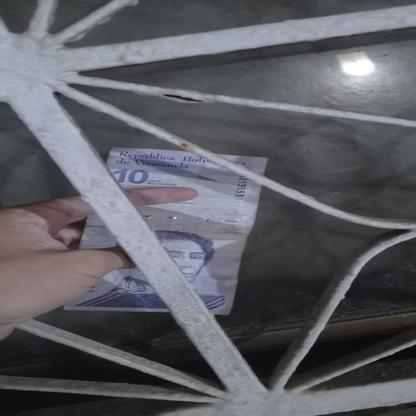ten-front-vef: (62, 145, 266, 317)
